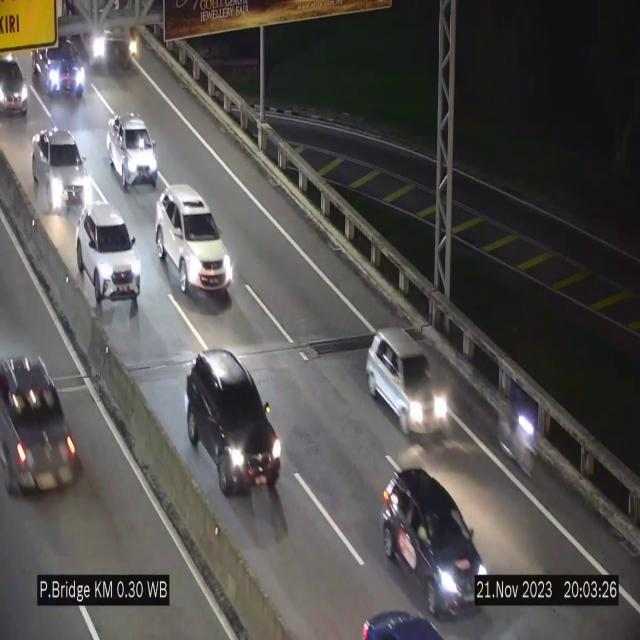Car: (0, 316, 86, 514), (381, 461, 485, 615), (186, 348, 285, 492), (366, 325, 448, 439), (156, 184, 232, 300), (70, 202, 140, 312), (25, 127, 95, 211), (107, 114, 159, 190), (36, 32, 86, 108), (0, 55, 36, 125)
Motorcycle: (510, 399, 540, 494)
